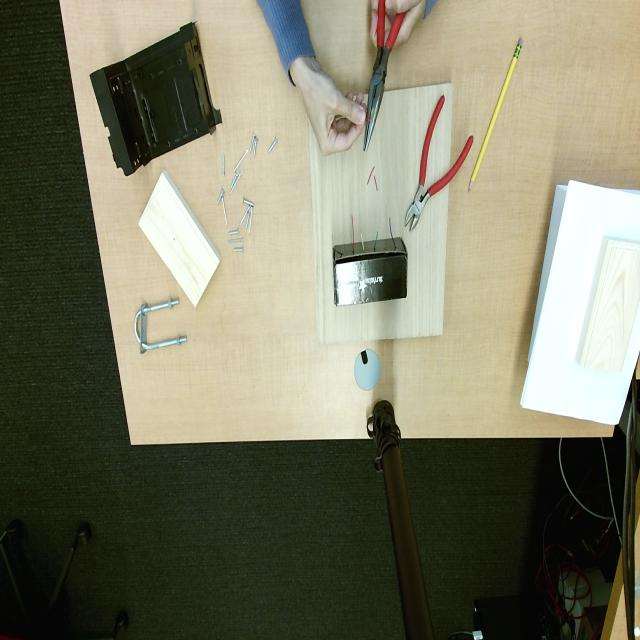pliers: (405, 96, 474, 230), (364, 0, 405, 150)
